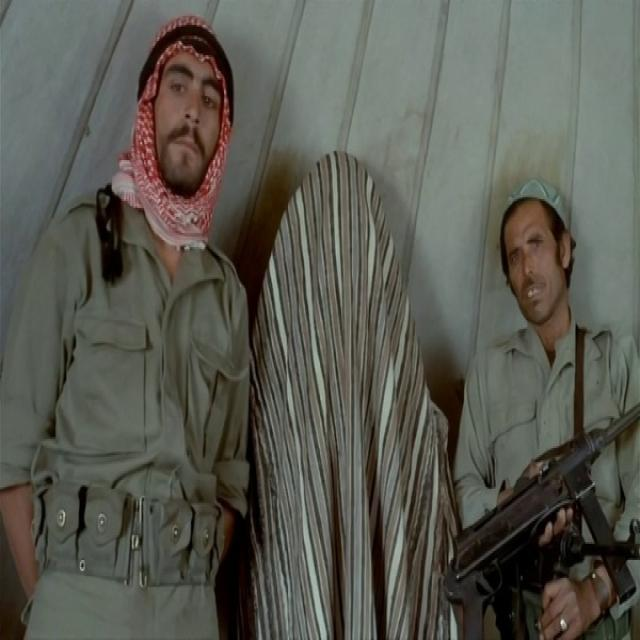rifle: (446, 431, 640, 607)
